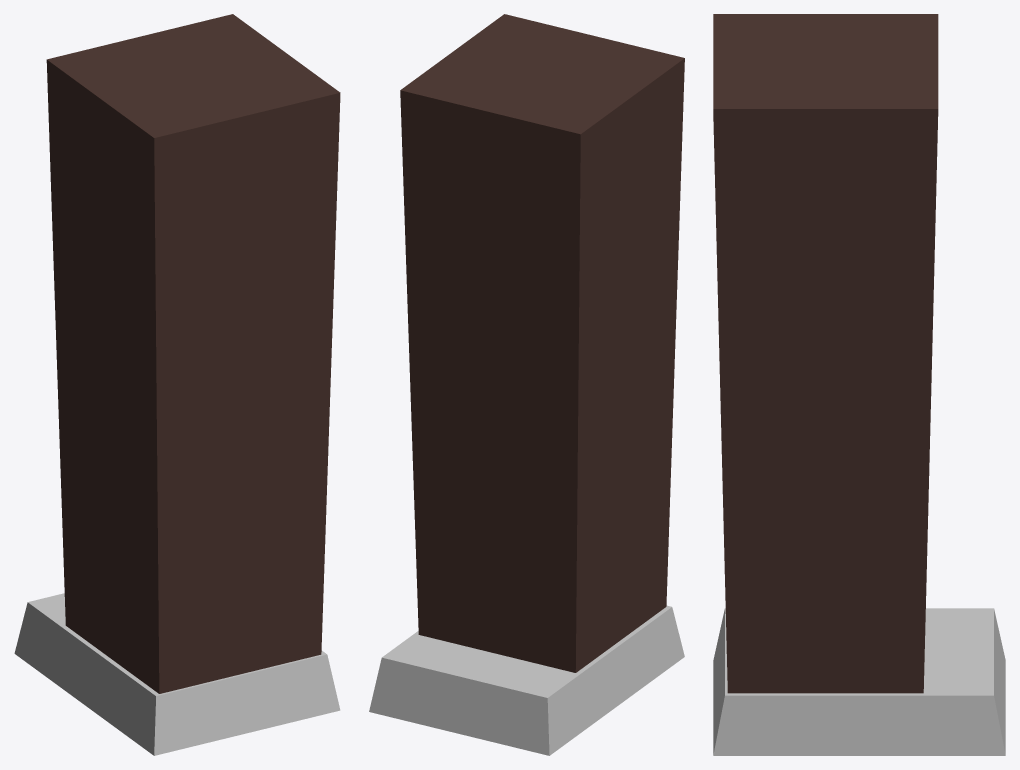
Rendered from animal_moose_leg.obj.
3 renders of one model, left to right at view 1: azimuth 30°, elevation 25°; view 2: azimuth 150°, elevation 25°; view 3: azimuth 270°, elevation 25°, orthographic. The views are drawn at different scales.
Parts seen in each view (by area): view 1: animal_moose_leg; view 2: animal_moose_leg; view 3: animal_moose_leg.
Boxes of the visible parts, x1,y1,x2,y2 form: animal_moose_leg: (14, 14, 340, 755); animal_moose_leg: (369, 14, 684, 755); animal_moose_leg: (713, 14, 1005, 755).
Size of the model in its own units: 0.1956 by 0.62 by 0.2542.
